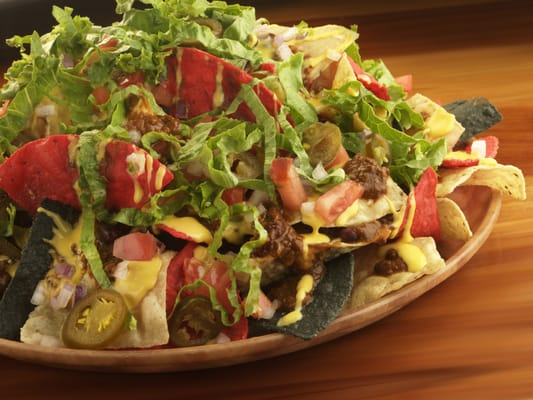curry: (23, 1, 532, 400)
sandwich: (1, 3, 525, 364)
